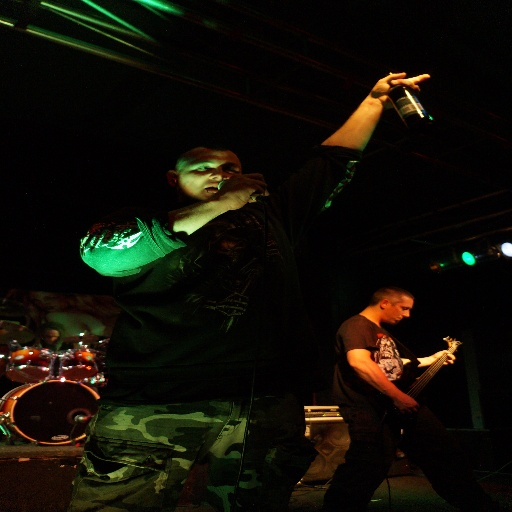hand: (358, 66, 437, 111), (215, 168, 272, 207), (393, 393, 419, 417), (432, 347, 456, 367)
